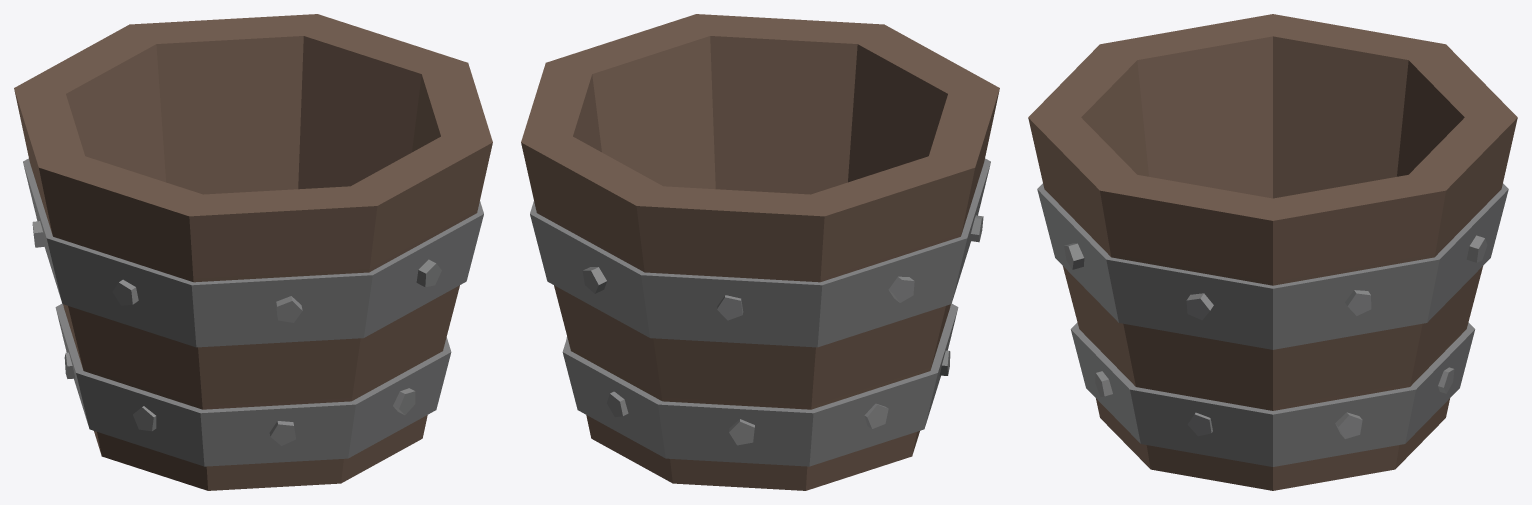
File: Bucket_Empty_Greybox_FBX.fbx
The picture shows the model from 3 angles, left to right: view 1: azimuth 30°, elevation 25°; view 2: azimuth 150°, elevation 25°; view 3: azimuth 270°, elevation 25°; orthographic projection.
Visible parts, largest first — view 1: Bucket, Metal_1, Metal_2, Bolt8, Bolt1, Bolt7; view 2: Bucket, Metal_1, Metal_2, Bolt5, Bolt6, Bolt4; view 3: Bucket, Metal_1, Metal_2, Bolt3, Bolt2, Bolt1, Bolt4.
Boxes of the visible parts, x1=… form: Bucket: x1=14, y1=14, x2=492, y2=490; Metal_1: x1=23, y1=158, x2=483, y2=347; Metal_2: x1=55, y1=304, x2=451, y2=466; Bolt8: x1=269, y1=296, x2=302, y2=445; Bolt1: x1=393, y1=259, x2=441, y2=414; Bolt7: x1=112, y1=279, x2=156, y2=431; Bucket: x1=521, y1=14, x2=999, y2=490; Metal_1: x1=530, y1=158, x2=990, y2=347; Metal_2: x1=562, y1=304, x2=958, y2=466; Bolt5: x1=717, y1=295, x2=754, y2=445; Bolt6: x1=864, y1=276, x2=914, y2=428; Bolt4: x1=582, y1=267, x2=628, y2=417; Bucket: x1=1028, y1=14, x2=1517, y2=490; Metal_1: x1=1037, y1=183, x2=1508, y2=349; Metal_2: x1=1070, y1=322, x2=1475, y2=466; Bolt3: x1=1335, y1=290, x2=1371, y2=438; Bolt2: x1=1186, y1=293, x2=1213, y2=436; Bolt1: x1=1064, y1=243, x2=1112, y2=396; Bolt4: x1=1438, y1=235, x2=1487, y2=393.
Size of the model in its own units: 0.9898 by 0.6701 by 0.9898.
